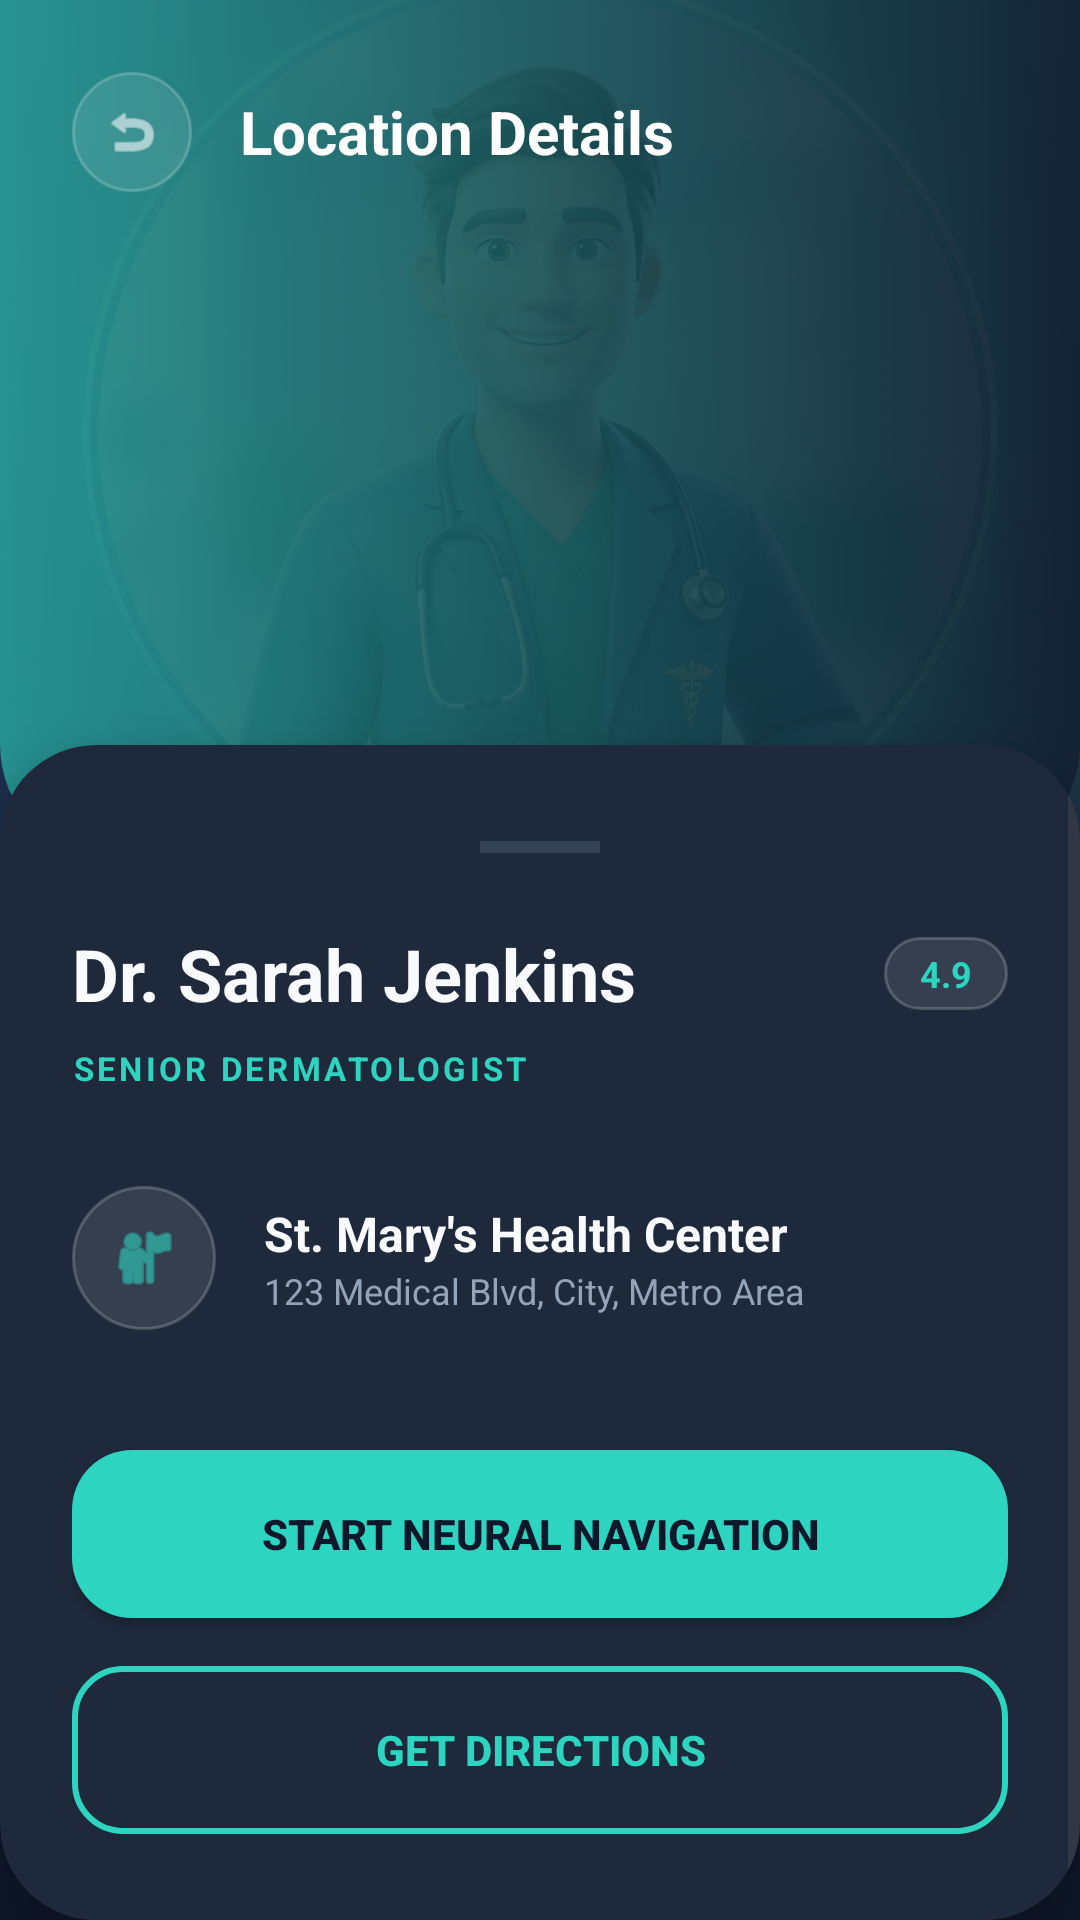

Icons on this 1080px x 1920px Android screen, each with the point to tap as [x,y]:
myplaces: [144,1258]
revert: [132,132]
